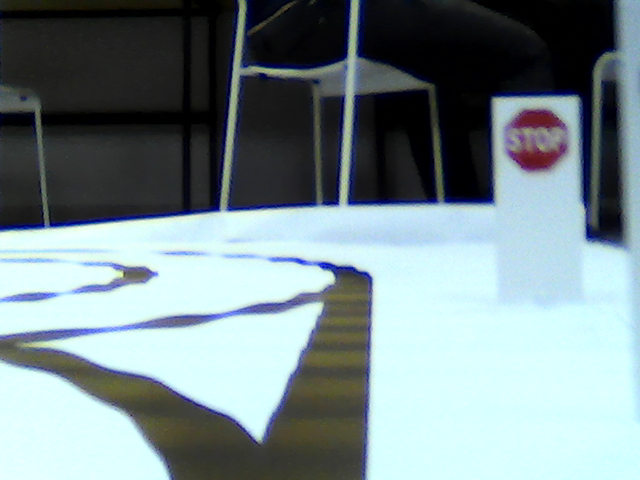Stop: (498, 103, 572, 177)
